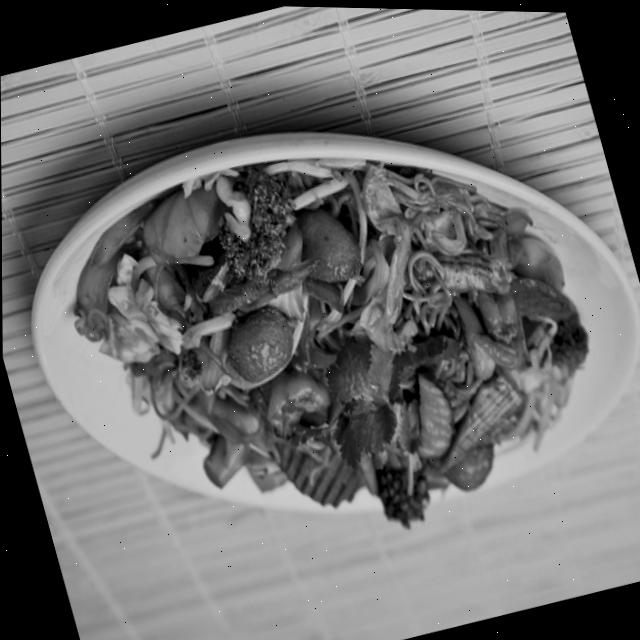蔬菜料理: (18, 36, 640, 634)
